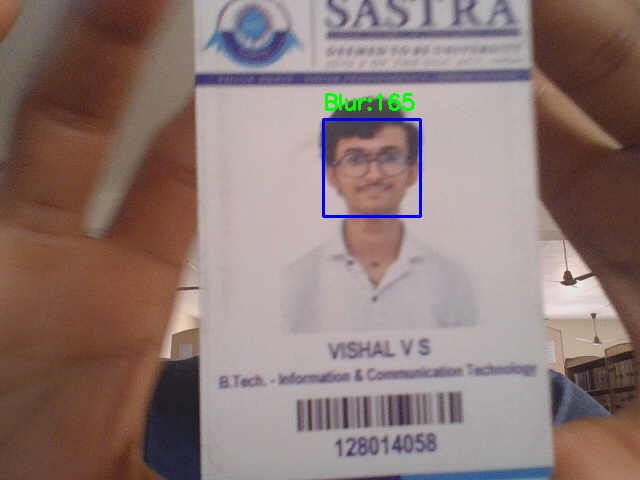fake: (323, 119, 420, 216)
